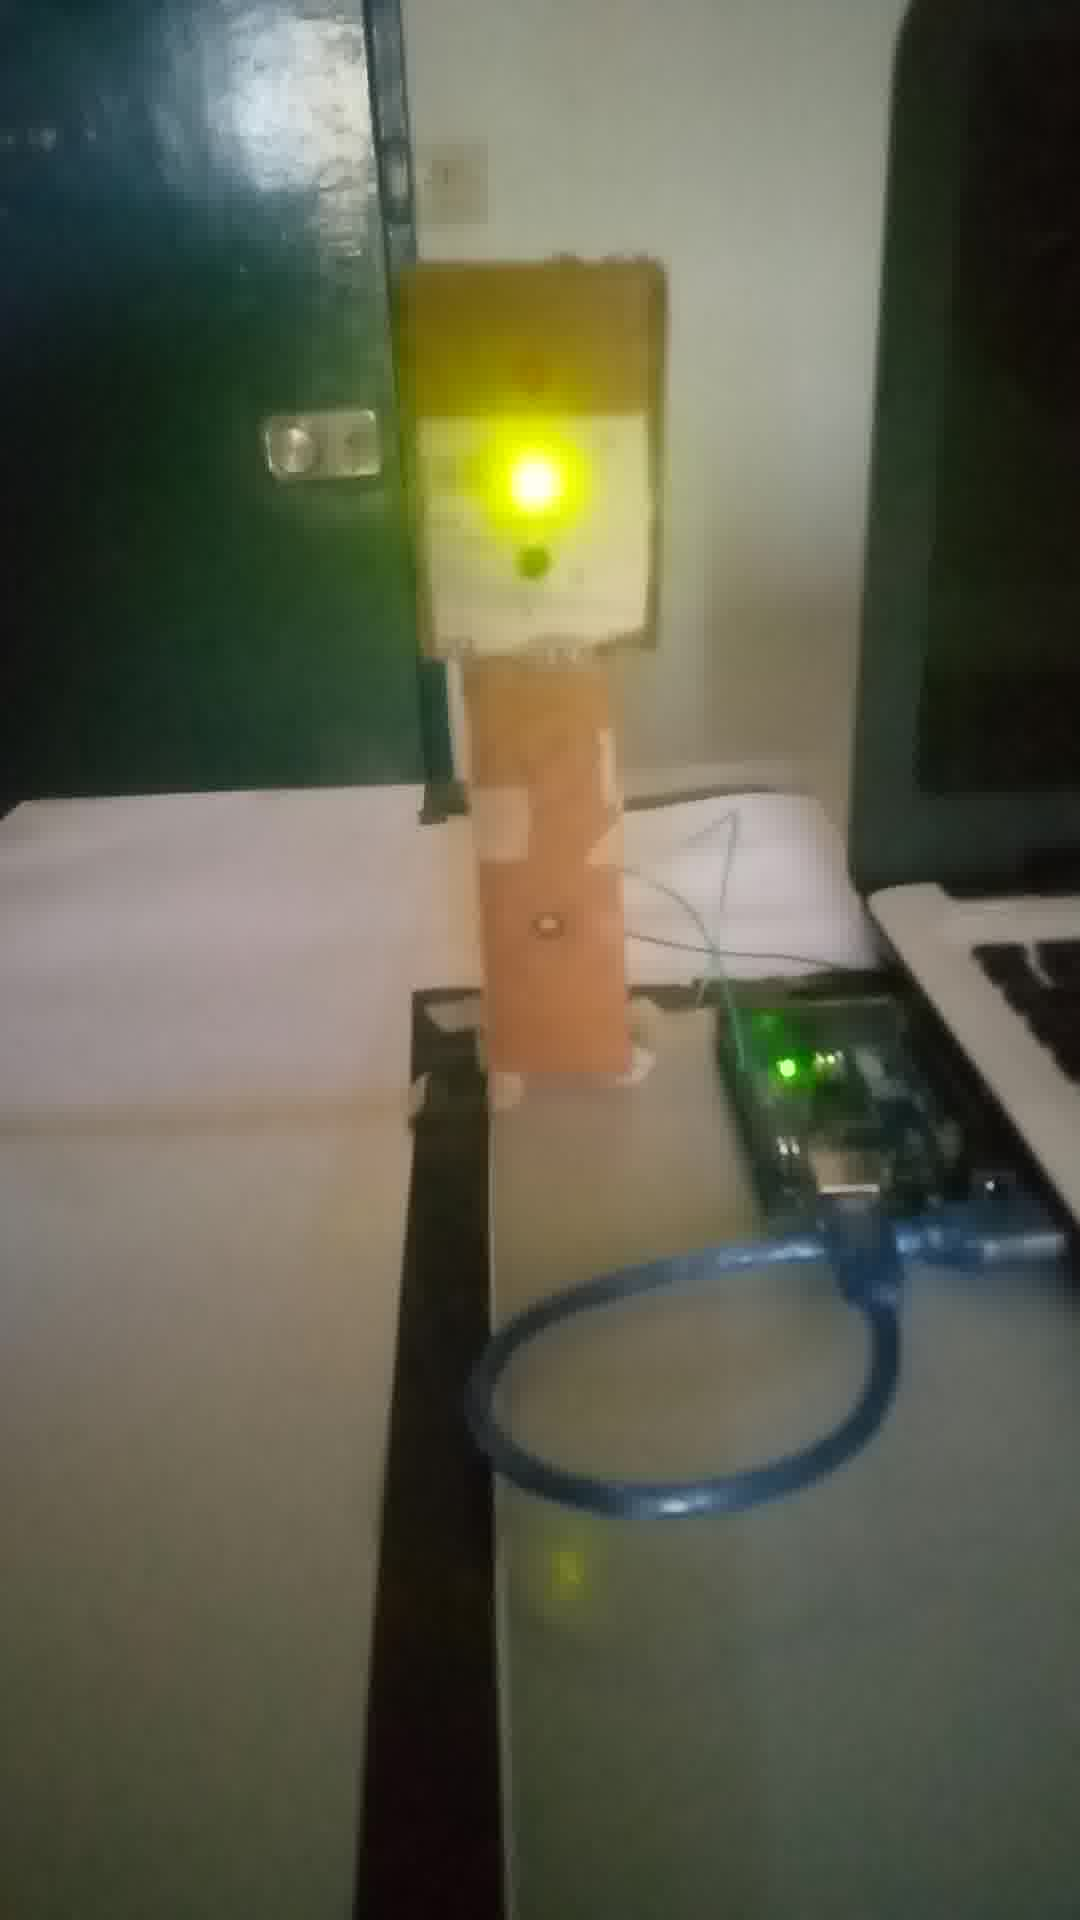yellow: (401, 272, 647, 657)
